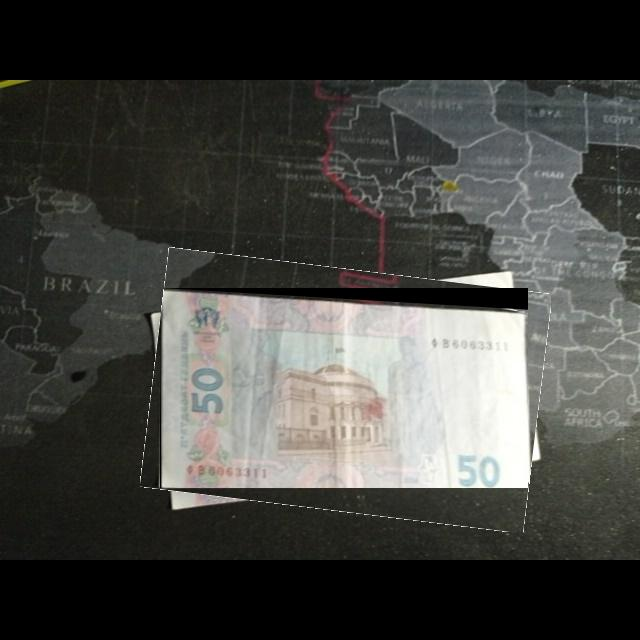50uah: (162, 288, 529, 489)
